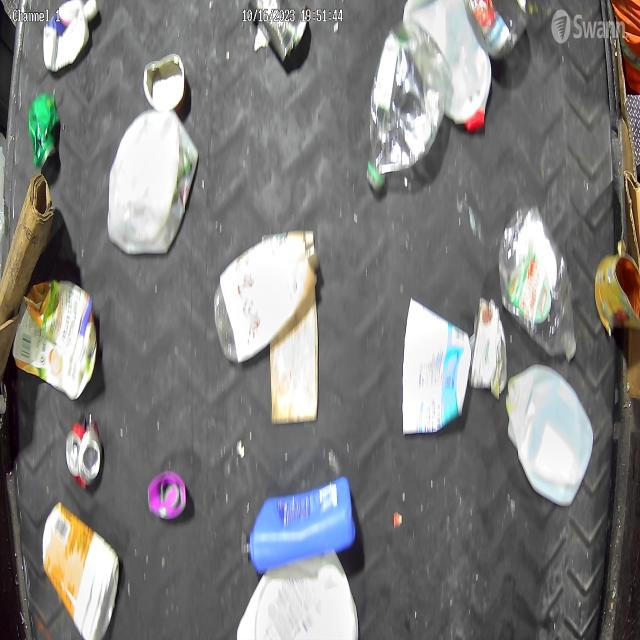can: (464, 296, 508, 396), (246, 0, 316, 61), (62, 405, 107, 489), (137, 45, 187, 112), (28, 90, 64, 172)
milk_jug: (102, 110, 198, 262), (506, 363, 598, 502), (235, 549, 374, 640), (401, 0, 492, 132)
non_white_jug: (238, 476, 364, 572)
plastic_bottle: (366, 20, 452, 202), (499, 203, 583, 372)
